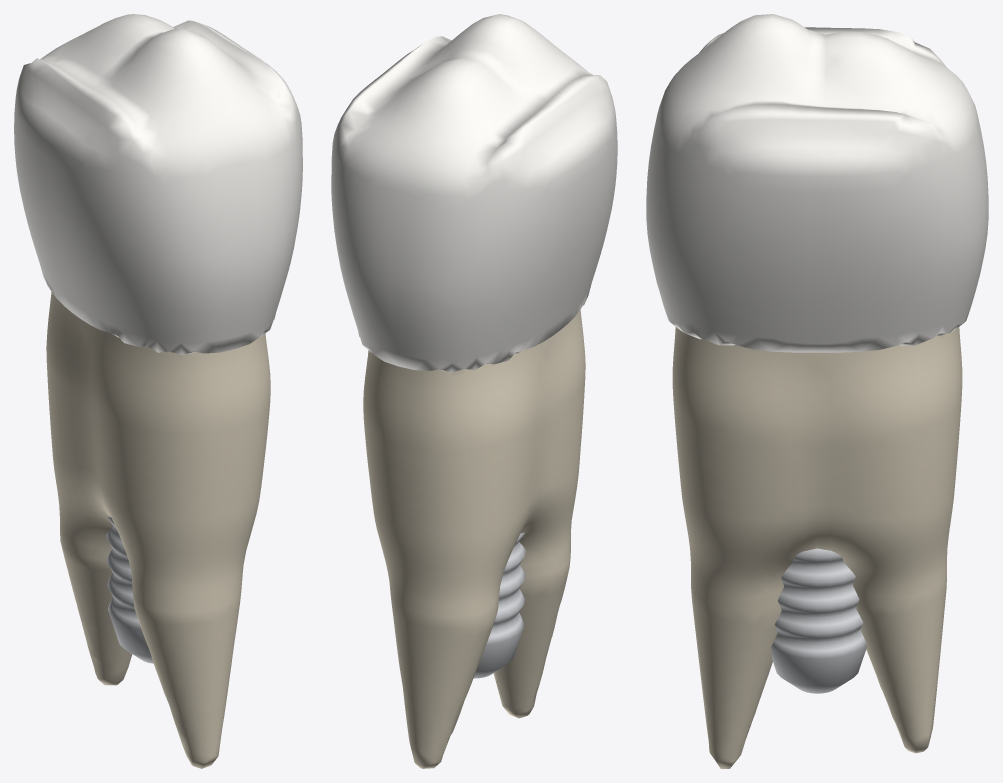
The picture shows the model from 3 angles, left to right: view 1: azimuth 30°, elevation 25°; view 2: azimuth 150°, elevation 25°; view 3: azimuth 270°, elevation 25°; orthographic projection. The views are drawn at different scales.
Visible parts, largest first — view 1: crown, root, implant; view 2: crown, root, implant; view 3: crown, root, implant.
Boxes of the visible parts, left/top/right/bottom form: crown: left=14, top=14, right=302, bottom=355; root: left=46, top=292, right=270, bottom=768; implant: left=106, top=516, right=153, bottom=663; crown: left=331, top=14, right=617, bottom=372; root: left=363, top=309, right=585, bottom=768; implant: left=473, top=532, right=526, bottom=678; crown: left=646, top=14, right=988, bottom=352; root: left=672, top=327, right=962, bottom=768; implant: left=771, top=548, right=866, bottom=693.
Bounding box in the file's own units: 7.69 × 23.39 × 9.69.
